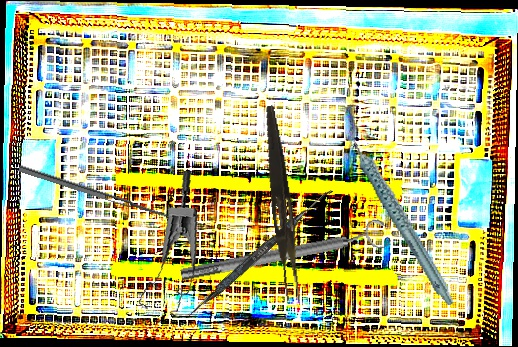Dressing Forceps: (255, 104, 308, 303)
Fixation Ring: (177, 217, 390, 290)
Handpiece: (347, 112, 456, 319)
Spatula Surgical: (186, 183, 334, 322), (18, 158, 179, 223)
Speculum: (121, 170, 212, 322)
